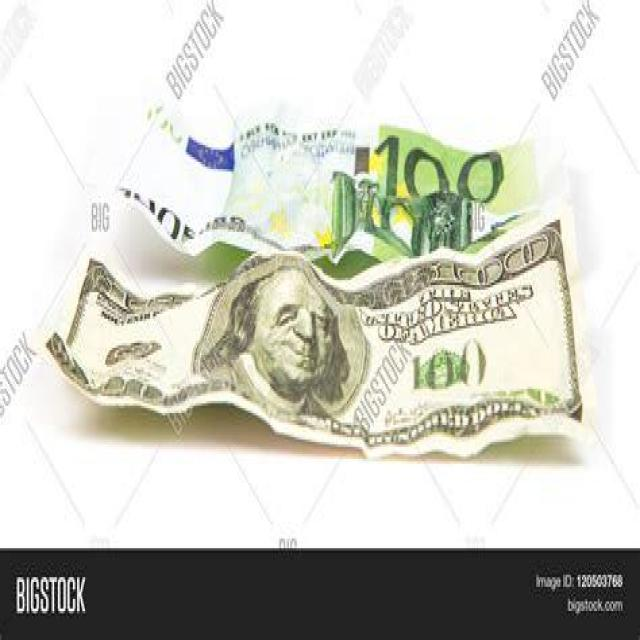banknote: (42, 202, 592, 470), (107, 103, 548, 264), (371, 130, 523, 220), (427, 228, 560, 291), (412, 337, 490, 398), (120, 172, 184, 243)
